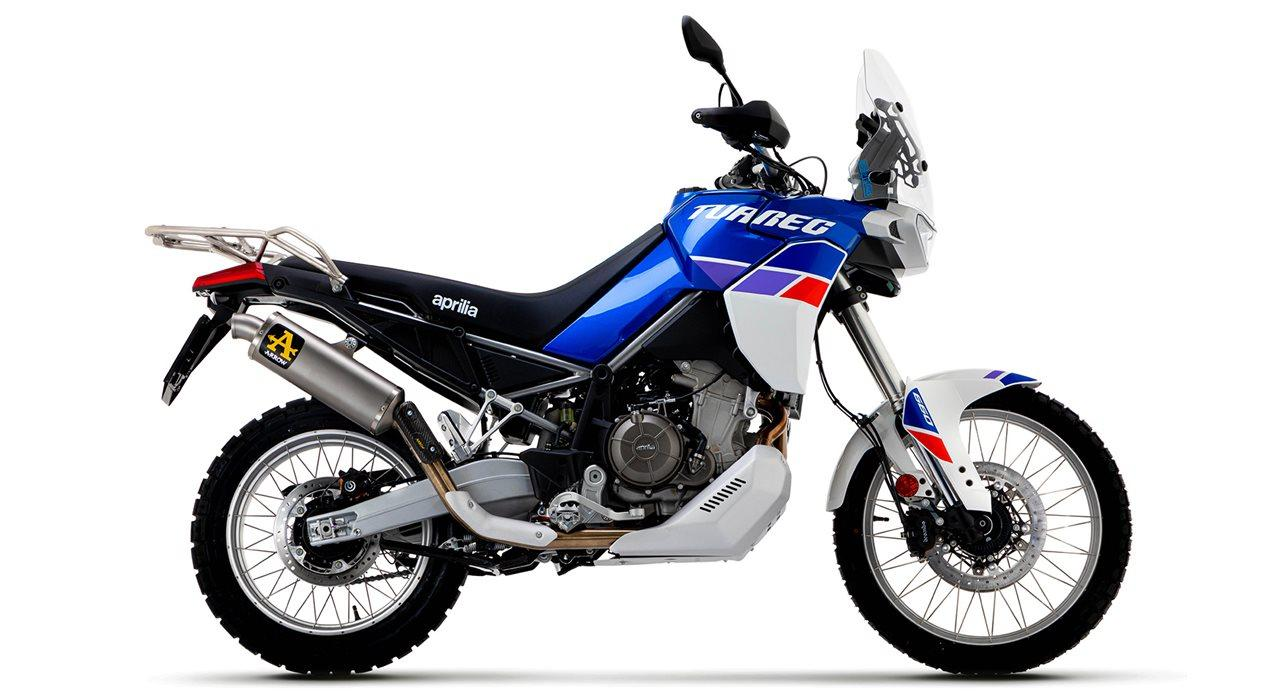engine-chasis: (380, 236, 792, 577)
exhaust: (230, 310, 661, 550), (751, 393, 789, 448)
frontside: (723, 47, 1043, 542)
handlebar: (681, 14, 828, 198), (855, 107, 879, 149)
motorbike: (145, 15, 1131, 674)
rearside: (144, 224, 593, 464), (306, 478, 448, 547)
seat: (332, 223, 665, 349)
tank: (662, 186, 786, 290)
wheel: (832, 384, 1134, 676), (190, 396, 472, 677), (814, 319, 910, 531), (320, 472, 426, 503), (445, 451, 520, 470), (349, 569, 413, 585)
